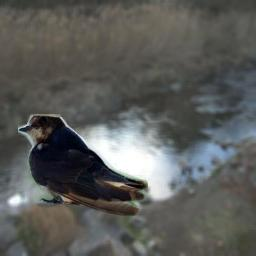Swallow: (18, 114, 148, 216)
